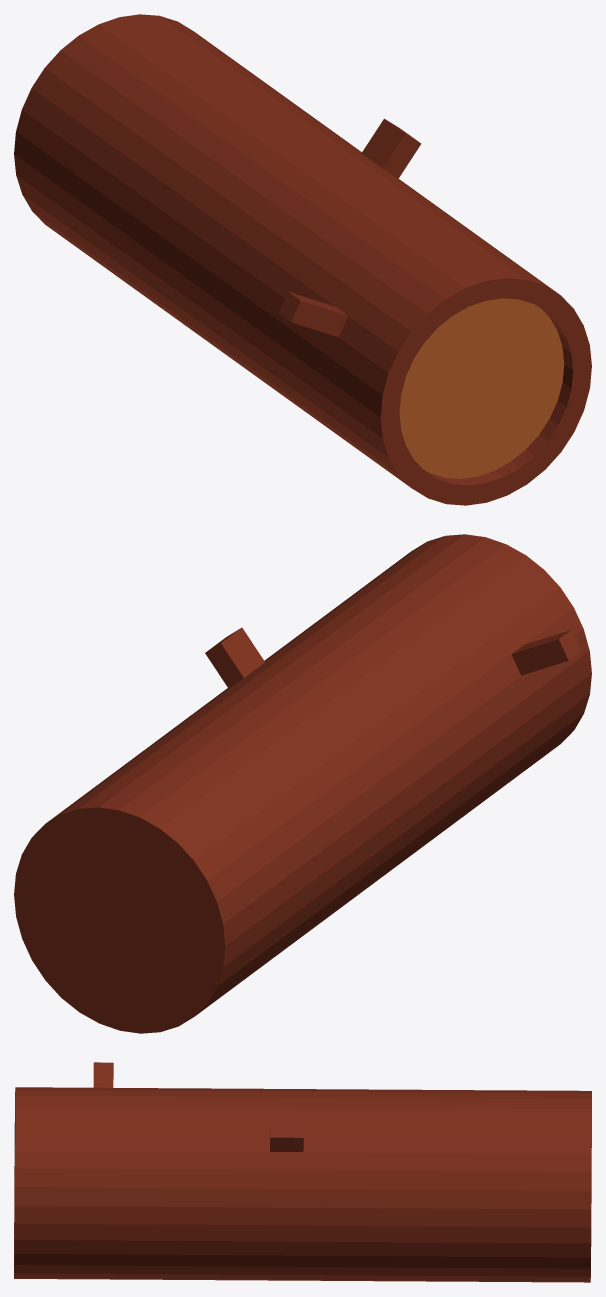
The model's file is brevno.fbx.
3 views of the same model, one above another, from view 1: azimuth 30°, elevation 25°; view 2: azimuth 150°, elevation 25°; view 3: azimuth 270°, elevation 25° (orthographic). The views are drawn at different scales.
Visible parts, largest first — view 1: Цилиндр.008; view 2: Цилиндр.008; view 3: Цилиндр.008.
Part boxes in pixels (bbox=[...]): Цилиндр.008: bbox=[14, 14, 591, 505]; Цилиндр.008: bbox=[14, 534, 591, 1033]; Цилиндр.008: bbox=[14, 1062, 591, 1282].
Bounding box in the file's own units: 237 × 212 × 603.
